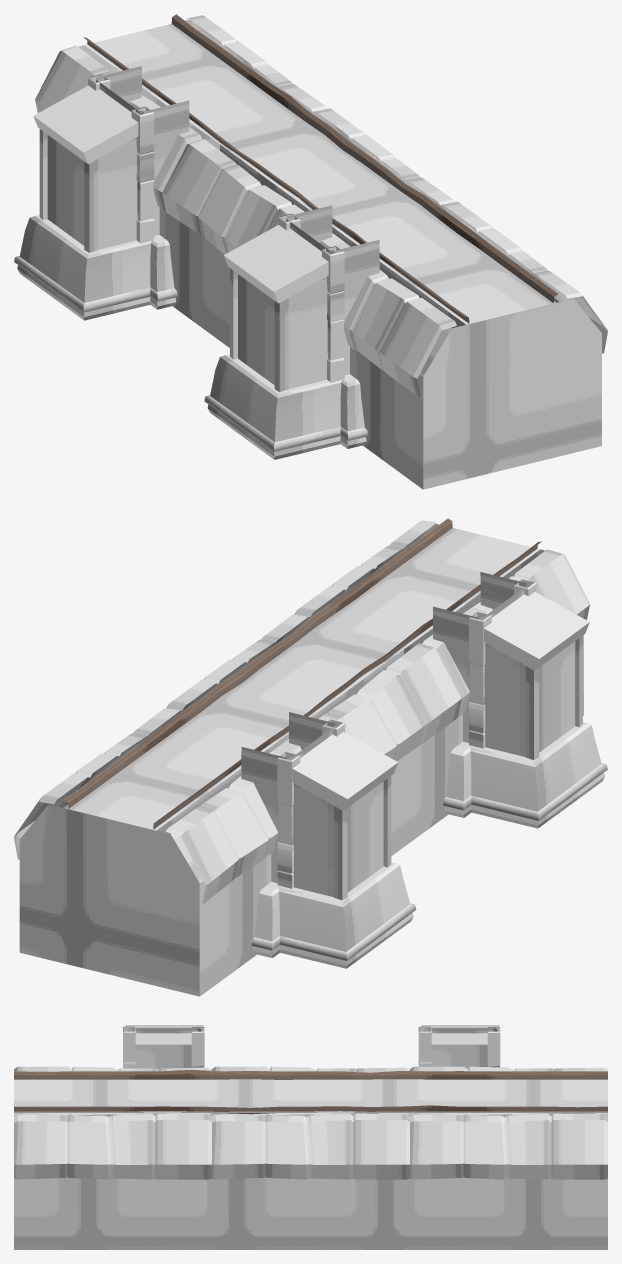
Rendered from SM_Wall_Bottom.fbx.
3 views of the same model, one above another, from view 1: azimuth 30°, elevation 25°; view 2: azimuth 150°, elevation 25°; view 3: azimuth 270°, elevation 25° (orthographic). The views are drawn at different scales.
Parts seen in each view (by area): view 1: SM_Wall_Bottom_LOD0; view 2: SM_Wall_Bottom_LOD0; view 3: SM_Wall_Bottom_LOD0.
Part boxes in pixels (x1=…): SM_Wall_Bottom_LOD0: x1=14, y1=14, x2=607, y2=489; SM_Wall_Bottom_LOD0: x1=14, y1=518, x2=607, y2=996; SM_Wall_Bottom_LOD0: x1=14, y1=1025, x2=607, y2=1249.
Bounding box in the file's own units: 826 × 2000 × 546.
